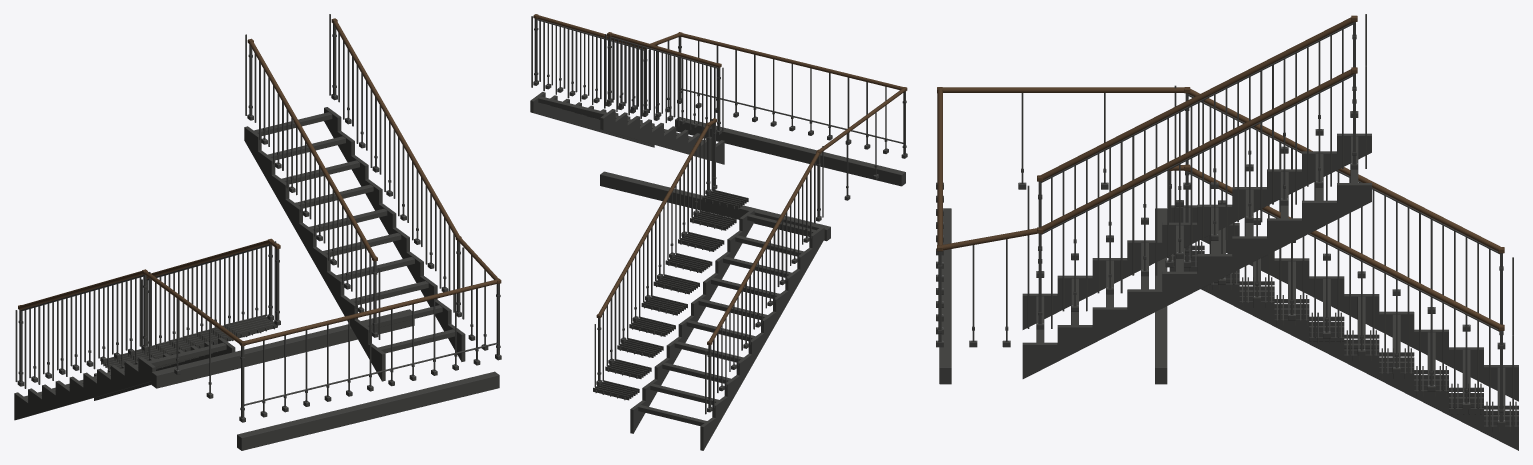
The model's file is stair_ironwork_court_basement.glb.
3 views of the same model, side by side, from view 1: azimuth 30°, elevation 25°; view 2: azimuth 150°, elevation 25°; view 3: azimuth 270°, elevation 25° (orthographic). The views are drawn at different scales.
Visible parts, largest first — view 1: StairStructure, Ironwork_cast_iron, Ironwork_wood_dark; view 2: StairStructure, Ironwork_cast_iron, Ironwork_wood_dark; view 3: StairStructure, Ironwork_cast_iron, Ironwork_wood_dark.
Part boxes in pixels (x1=…): StairStructure: x1=14, y1=107, x2=499, y2=450; Ironwork_cast_iron: x1=15, y1=14, x2=501, y2=422; Ironwork_wood_dark: x1=18, y1=18, x2=501, y2=346; StairStructure: x1=530, y1=92, x2=905, y2=450; Ironwork_cast_iron: x1=531, y1=16, x2=907, y2=414; Ironwork_wood_dark: x1=533, y1=14, x2=907, y2=345; StairStructure: x1=939, y1=133, x2=1518, y2=450; Ironwork_cast_iron: x1=936, y1=14, x2=1513, y2=426; Ironwork_wood_dark: x1=937, y1=15, x2=1504, y2=330.
Size of the model in its own units: 3.1 by 4.42 by 4.76.
